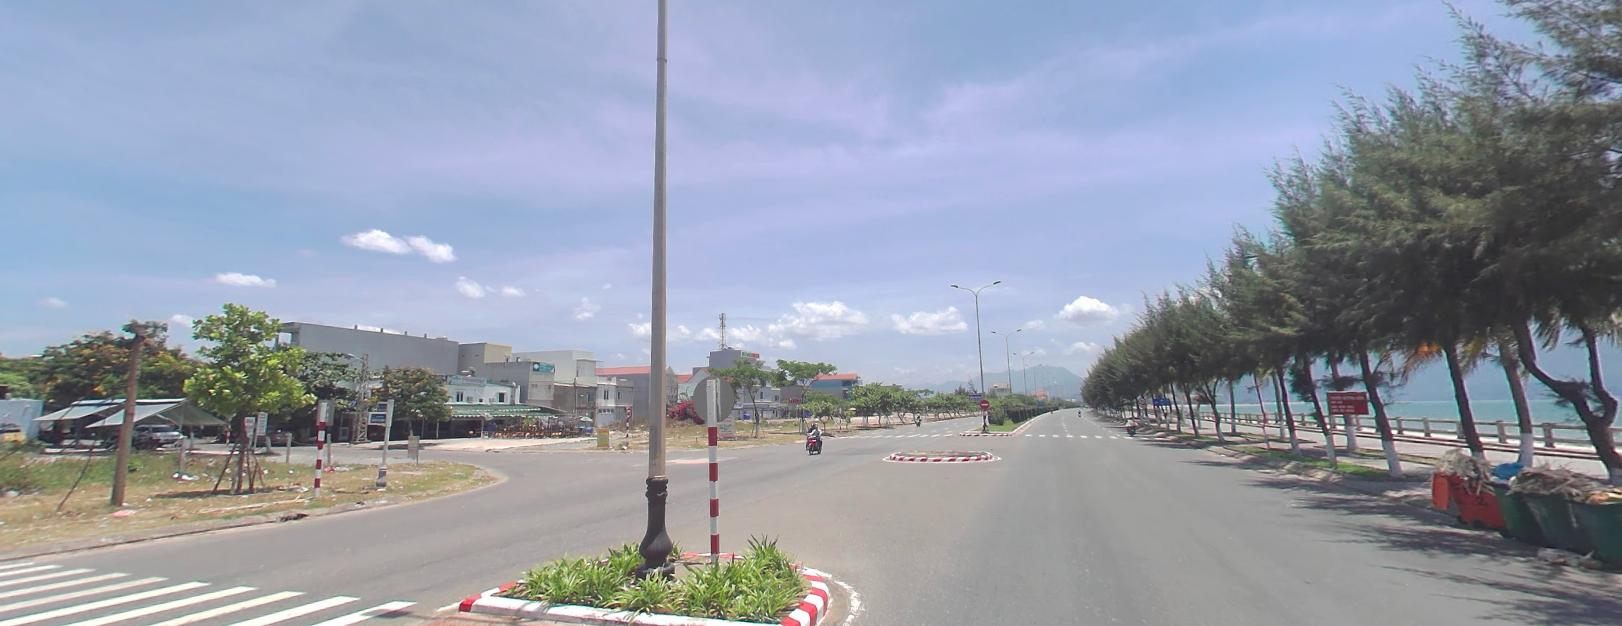Cam con lai: (625, 406, 631, 415)
Cam nguoc chieu: (979, 398, 988, 407)
